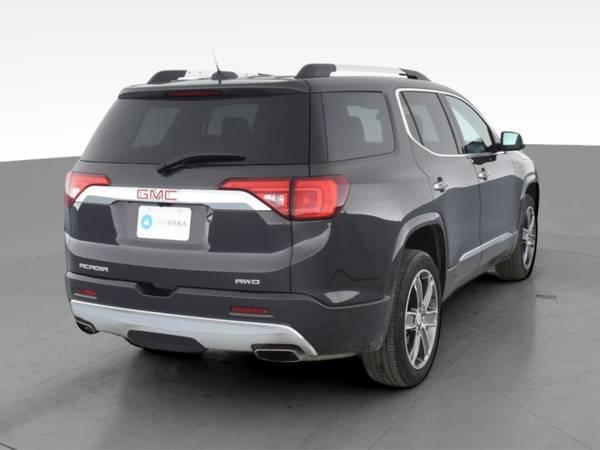Front_Right_Door: (470, 153, 517, 269)
Front_Right_Window: (443, 90, 509, 153)
Left_Taillight: (64, 175, 110, 209)
Rear_Bumper: (62, 268, 393, 358)
Rear_Fender: (289, 90, 432, 306)
Rear_Left_Window: (398, 90, 470, 158)
Rear_Right_Door: (413, 141, 481, 296)
Rear_Windshield: (79, 93, 309, 164)
Right_Taillight: (220, 175, 351, 222)
Roof: (117, 72, 469, 162)
Tailgate: (65, 160, 310, 294)
Wheel: (365, 242, 445, 381), (495, 192, 538, 277)
